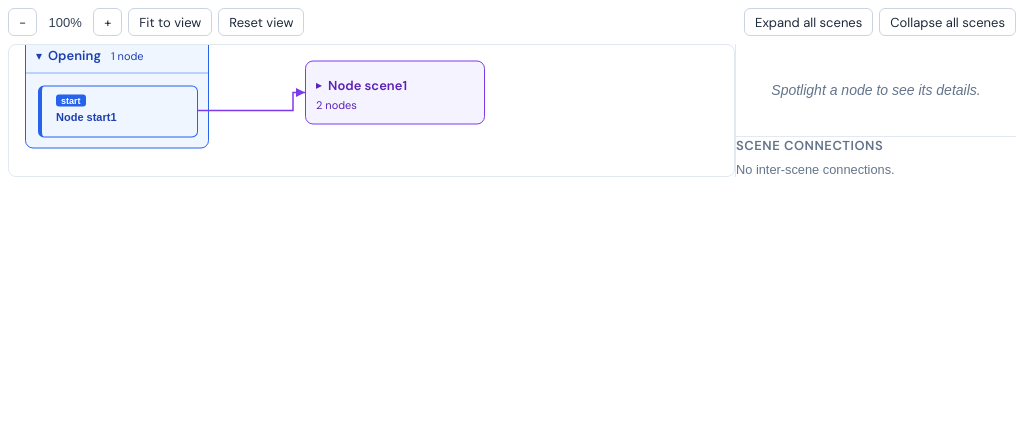
Test: CanvasView — spotlight and sidebar › clears the spotlight from the breadcrumb
The image size is (1024, 424).
Click the button with aria-label "Node start1 (start)".
click(118, 112)  # box left=38, top=86, right=198, bottom=138
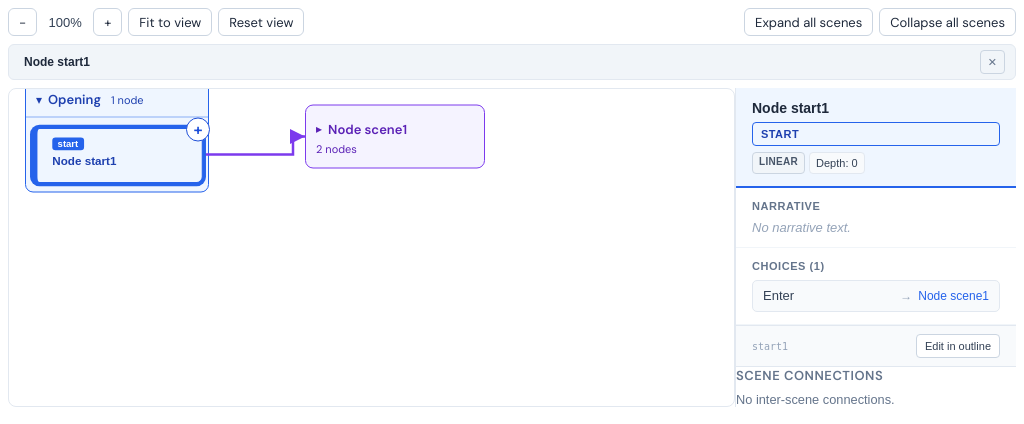
Click the button named "Clear spotlight".
click(992, 62)  # box left=980, top=50, right=1005, bottom=74
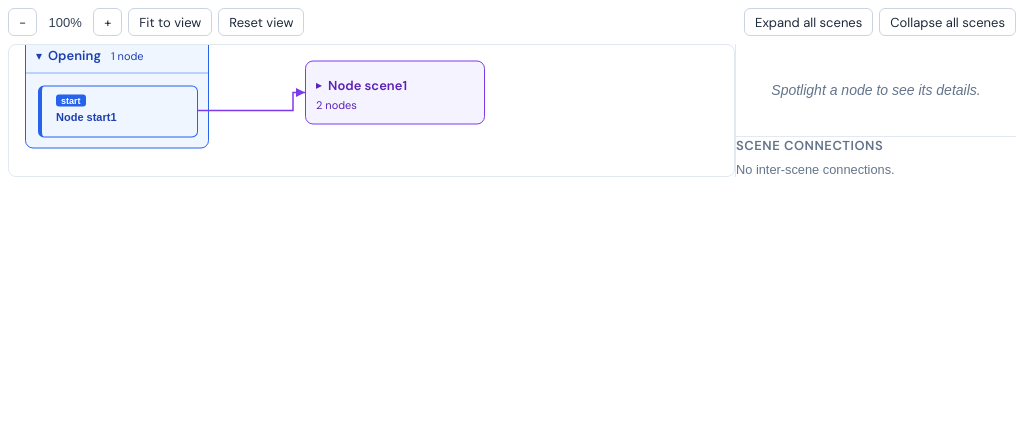
Expected: the text "Spotlight a node to see its details." is shown, left=771, top=82, right=981, bottom=98
